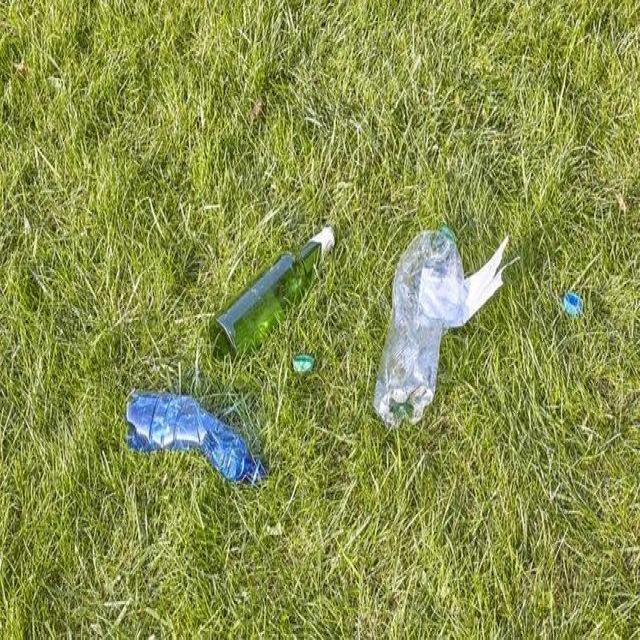bottle: (370, 202, 478, 440), (203, 220, 339, 366), (120, 378, 267, 492)
